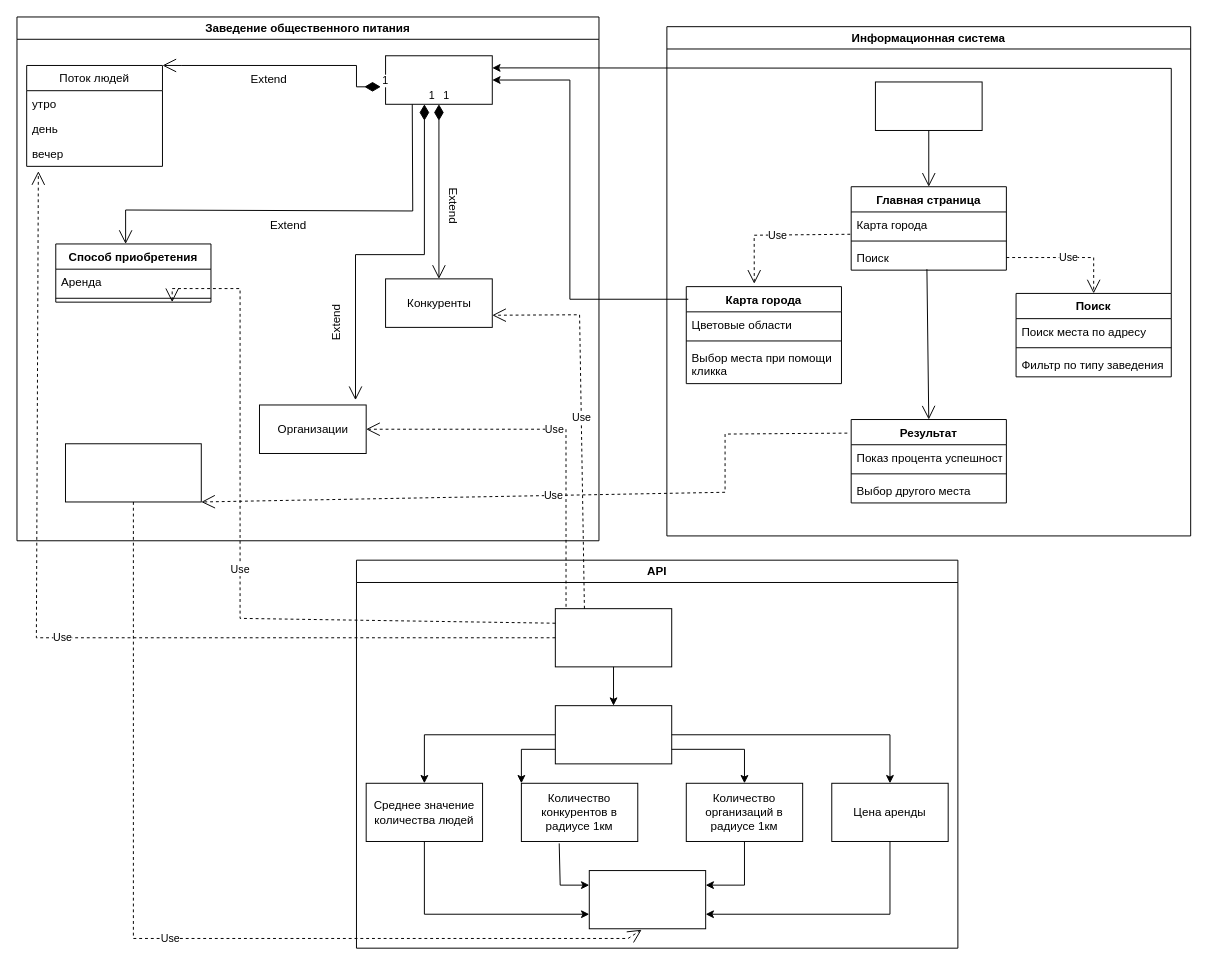
Image size: 1208x969. Some labels were removed from this diagram. The shapes that lost their labels are listed below. From the top down, each one's centre as x and y in pixels, then its label:
the point at 438,79: Место для заведения
the point at 928,105: Сайт с ИС
the point at 133,472: Процент успешности Рассчет формулой
the point at 613,637: Запрос
the point at 613,734: Обработка данных
the point at 647,899: Перемножение на весовые коэффициенты
